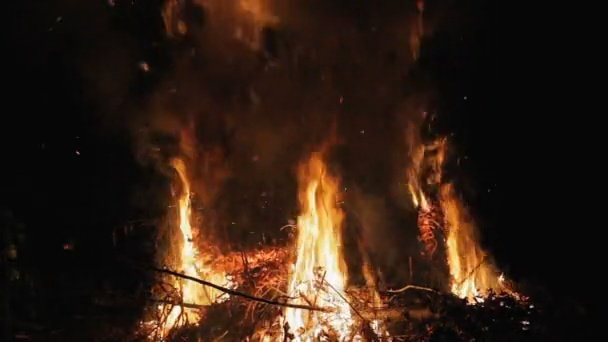fire: (260, 158, 363, 342), (409, 138, 507, 301), (153, 158, 236, 336)
